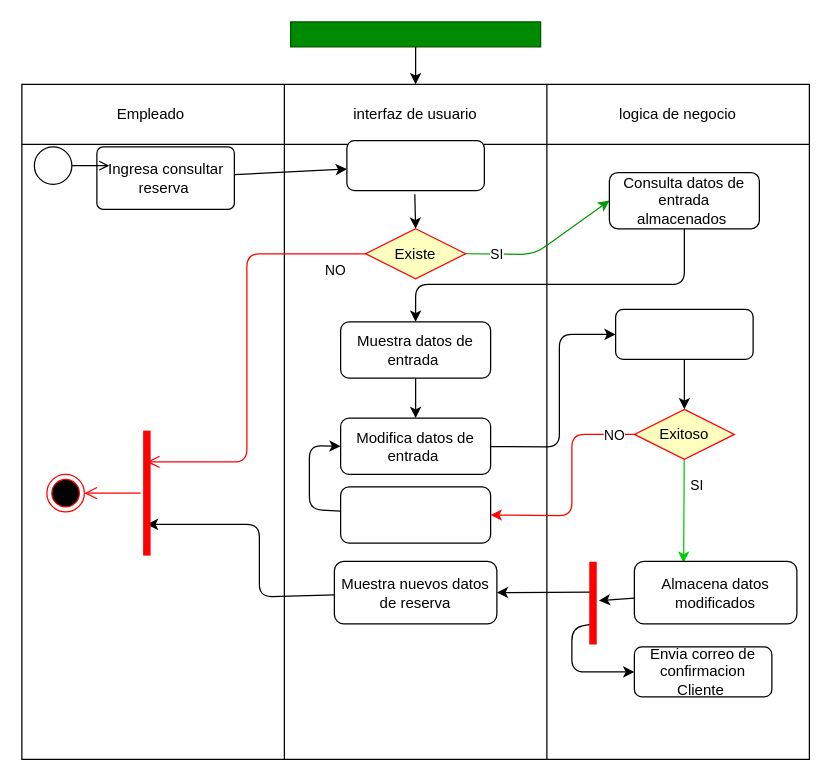
Some shapes in this 831 by 781 pixel diagram are drawn without their labels. Each missing label, with the centre of its shape:
"Autenticacion recerva cliente" goes at (415,165).
"DAE3.2.ACTUALIZAR RECERVA" goes at (415,34).
"Datos erroneos" goes at (415,514).
"Valida datos de entrada" goes at (683,333).
